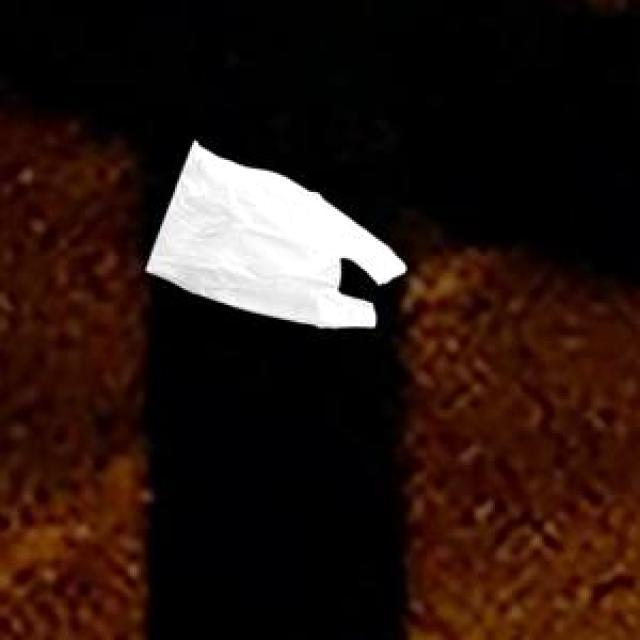Plastic_Bag: (144, 137, 402, 326)
